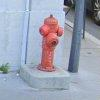a fire hydrant: (38, 13, 64, 72)
